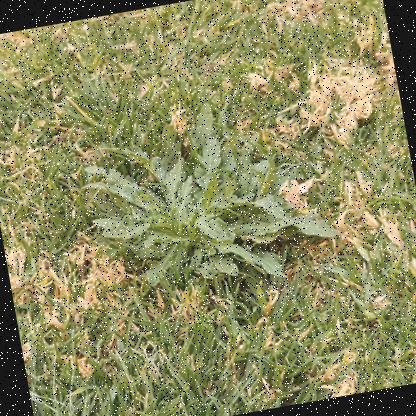Weeds: (69, 84, 348, 323)
